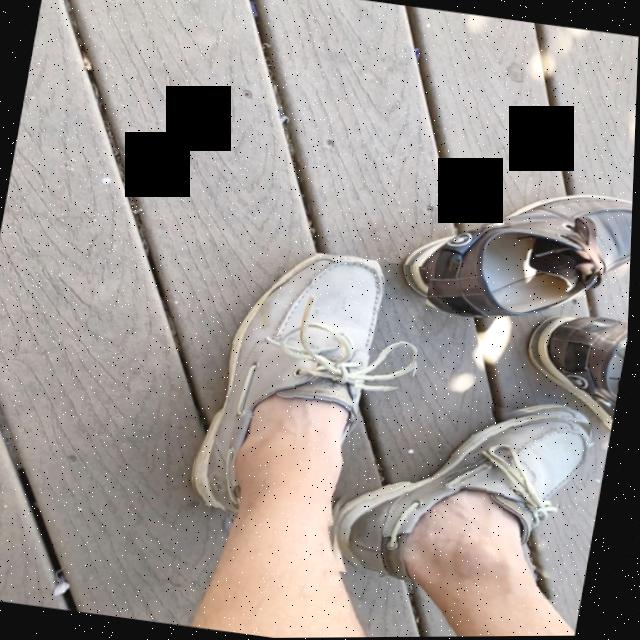shoe: (197, 255, 419, 520), (339, 416, 592, 582)
